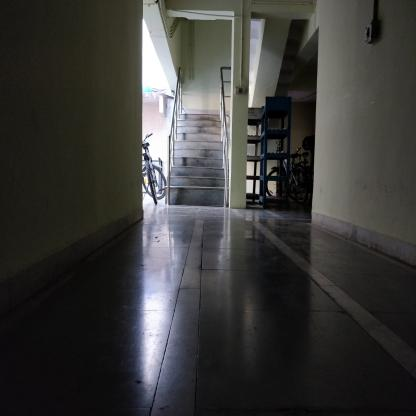stairs: (182, 114, 221, 211)
